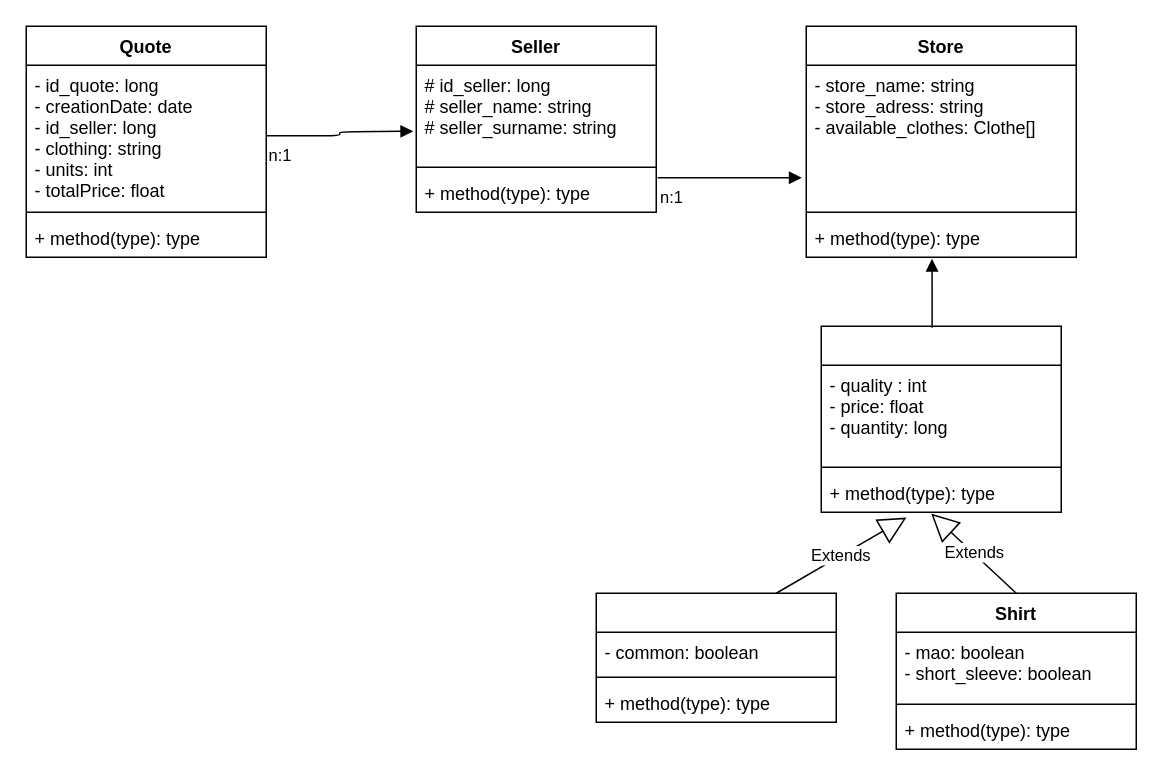
This 1163x780 diagram has some shape labels left out. The box of each missing label's shape, as (x1, y1, x2, y2) in pixels:
Clothe: (820, 325, 1061, 512)
Pant: (595, 592, 836, 722)
